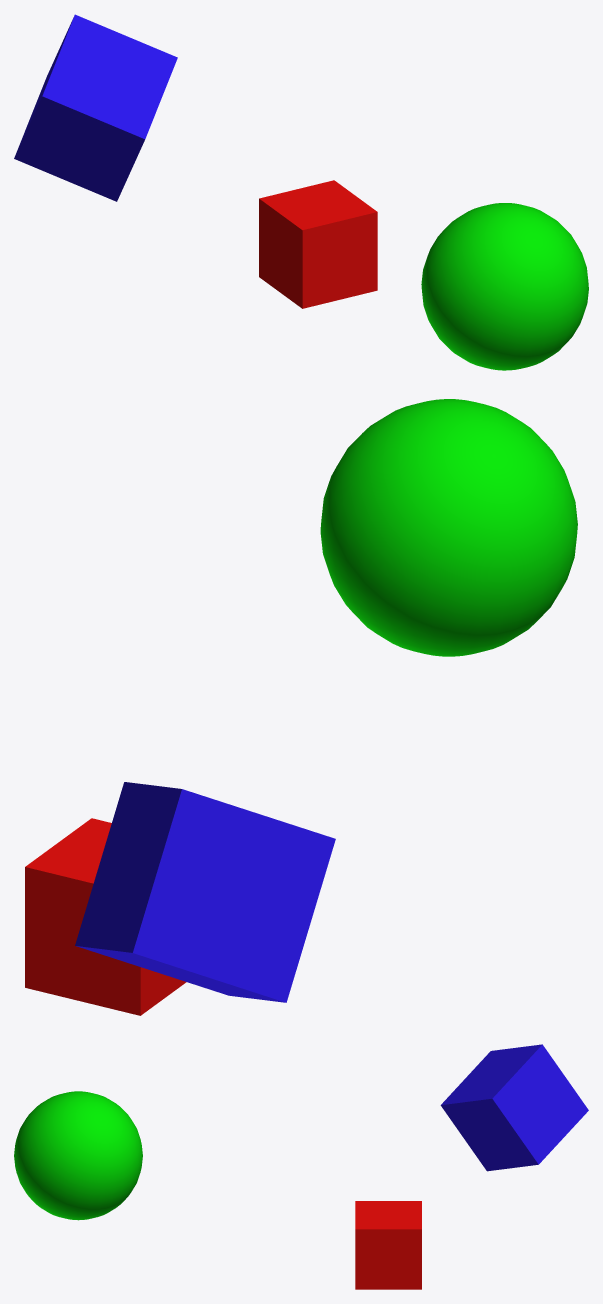
3 renders of one model, top to bottom at view 1: azimuth 30°, elevation 25°; view 2: azimuth 150°, elevation 25°; view 3: azimuth 270°, elevation 25°, orthographic. The views are drawn at different scales.
Parts seen in each view (by area): view 1: Sphere, Cube.001, Cube; view 2: Sphere, Cube.001, Cube; view 3: Sphere, Cube.001, Cube.
Boxes of the visible parts, <box> form: Sphere: <box>421,203,588,370</box>; Cube.001: <box>14,14,177,201</box>; Cube: <box>259,180,377,308</box>; Sphere: <box>320,399,577,656</box>; Cube.001: <box>75,782,335,1002</box>; Cube: <box>25,818,186,1015</box>; Sphere: <box>14,1091,142,1220</box>; Cube.001: <box>440,1044,588,1171</box>; Cube: <box>355,1201,421,1289</box>.
Size of what is drawn, in the model's own units: 2.01 by 1.66 by 4.88.
